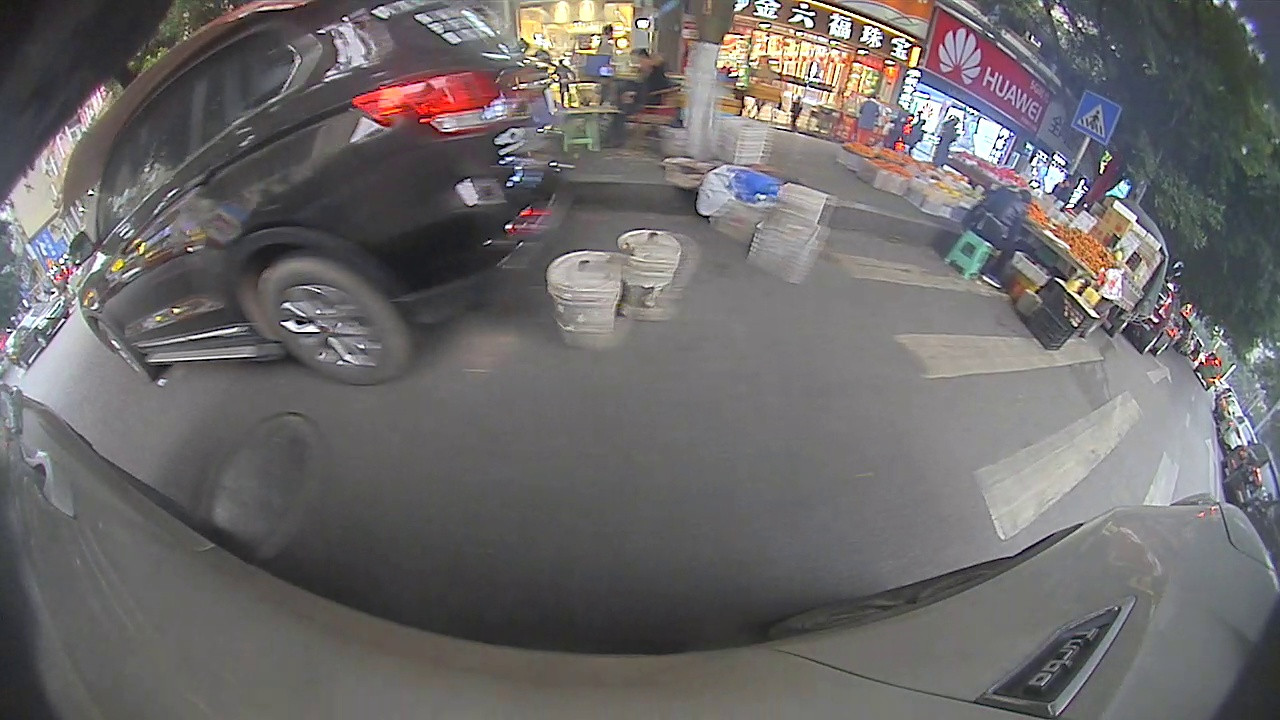car: (66, 15, 573, 386), (10, 299, 71, 371)
front: (93, 321, 152, 385), (33, 336, 47, 349)
rear: (253, 257, 414, 387)
